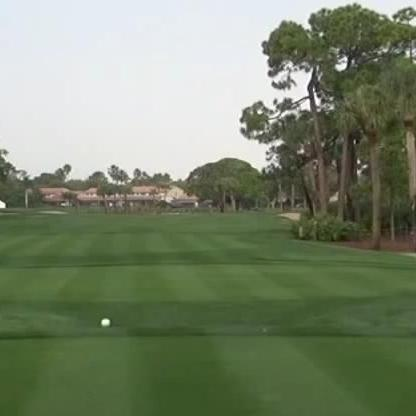golfball: (99, 316, 108, 326)
